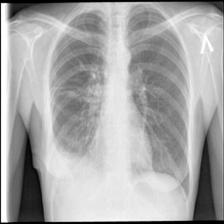tuberculosis: (41, 2, 195, 196)
